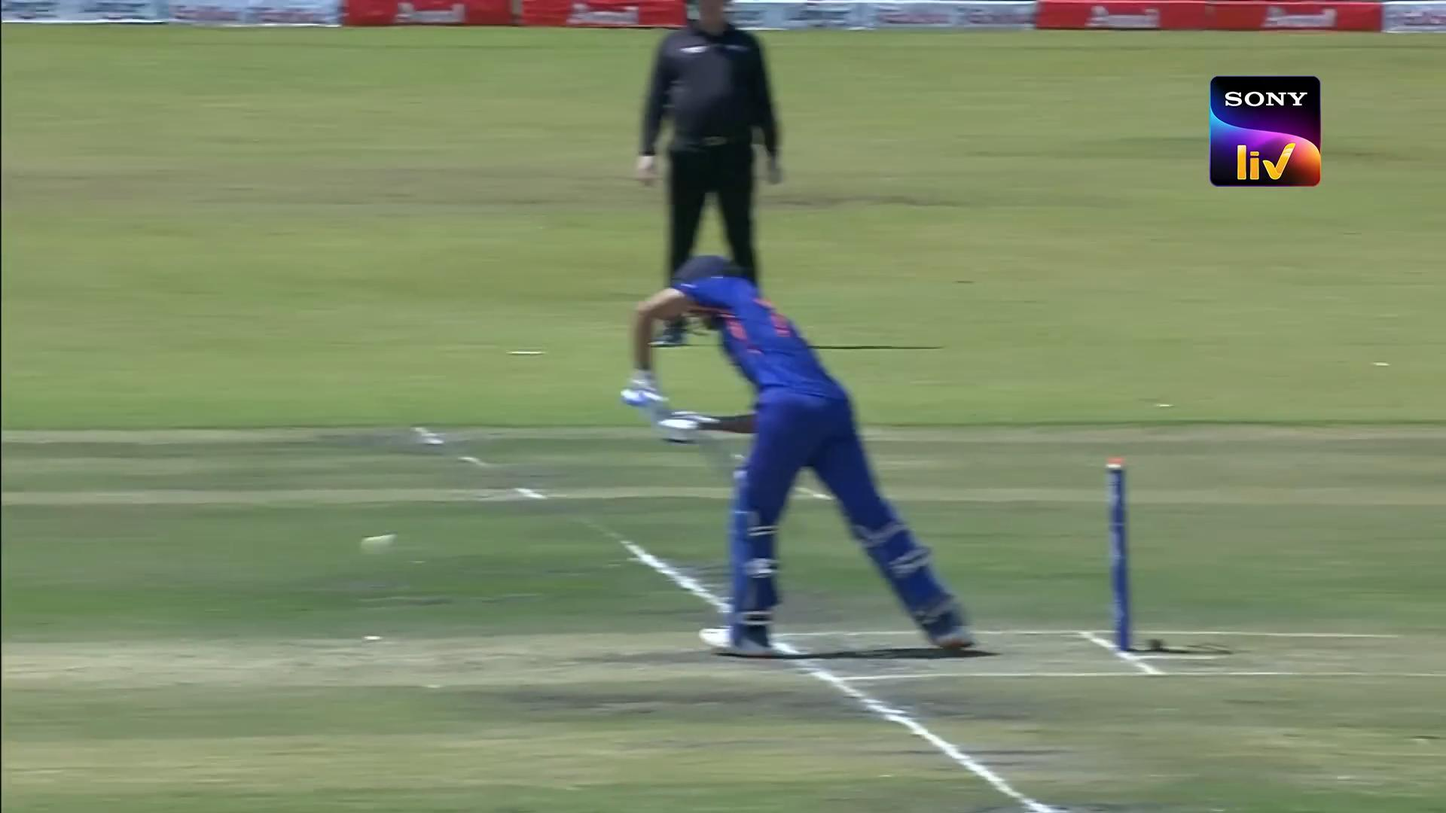batsman: (621, 253, 978, 658)
